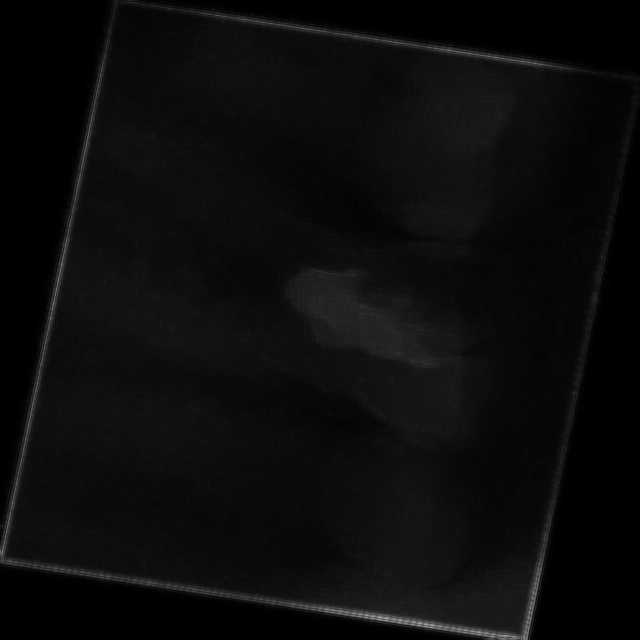Class 2- incomplete endodontic treatment: (33, 115, 572, 489)
